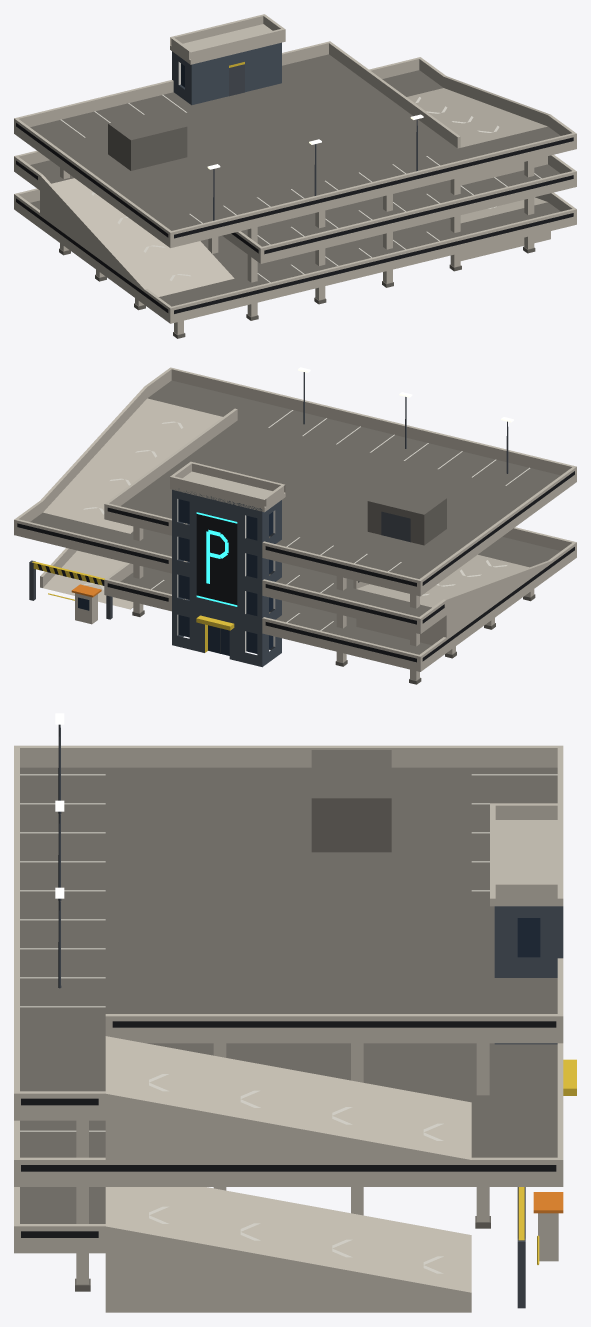
The model's file is parking_garage.glb.
3 views of the same model, one above another, from view 1: azimuth 30°, elevation 25°; view 2: azimuth 150°, elevation 25°; view 3: azimuth 270°, elevation 25° (orthographic). The views are drawn at different scales.
Visible parts, largest first — view 1: Body; view 2: Body; view 3: Body.
Boxes of the visible parts, x1=… form: Body: x1=14, y1=14, x2=576, y2=338; Body: x1=14, y1=367, x2=576, y2=684; Body: x1=14, y1=713, x2=576, y2=1312.
Size of what is drawn, in the model's own units: 36.01 by 14.22 by 24.61.
